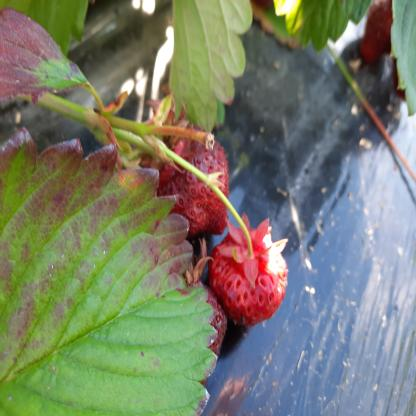ripe: (148, 131, 226, 231), (211, 230, 285, 320), (355, 0, 401, 65)
